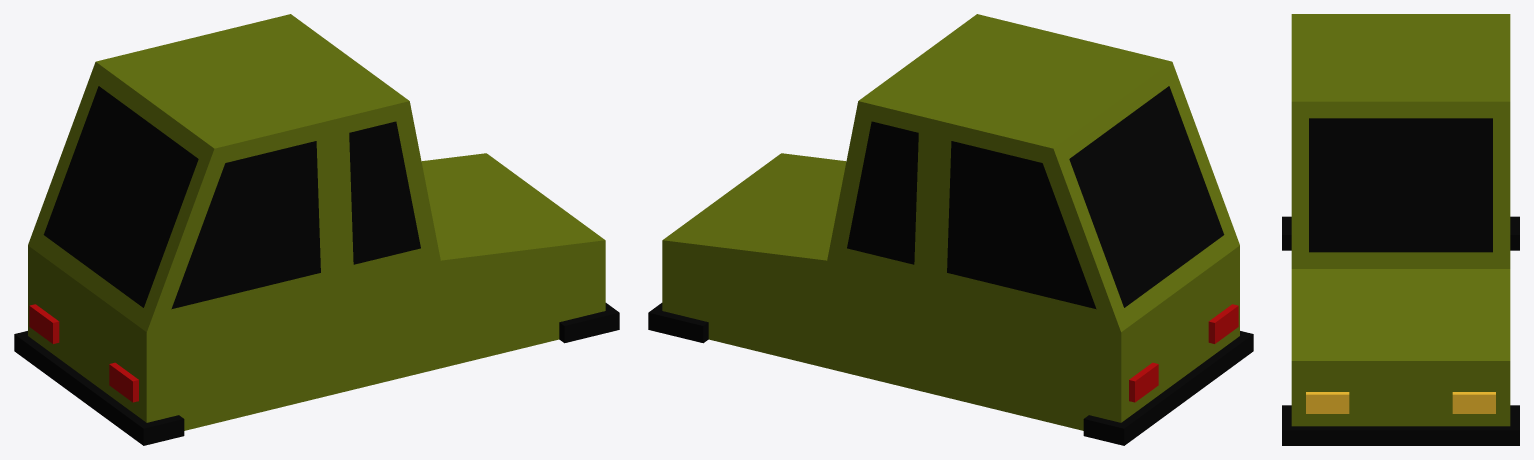
File: CityCar_Kombi_01.fbx
3 renders of one model, left to right at view 1: azimuth 30°, elevation 25°; view 2: azimuth 150°, elevation 25°; view 3: azimuth 270°, elevation 25°, orthographic. The views are drawn at different scales.
Parts seen in each view (by area): view 1: CityCar_Kombi_01; view 2: CityCar_Kombi_01; view 3: CityCar_Kombi_01.
Boxes of the visible parts, x1,y1,x2,y2 form: CityCar_Kombi_01: (14, 14, 619, 445); CityCar_Kombi_01: (648, 14, 1253, 445); CityCar_Kombi_01: (1282, 14, 1519, 445).
Bounding box in the file's own units: 0.4902 × 0.2706 × 0.2307.
